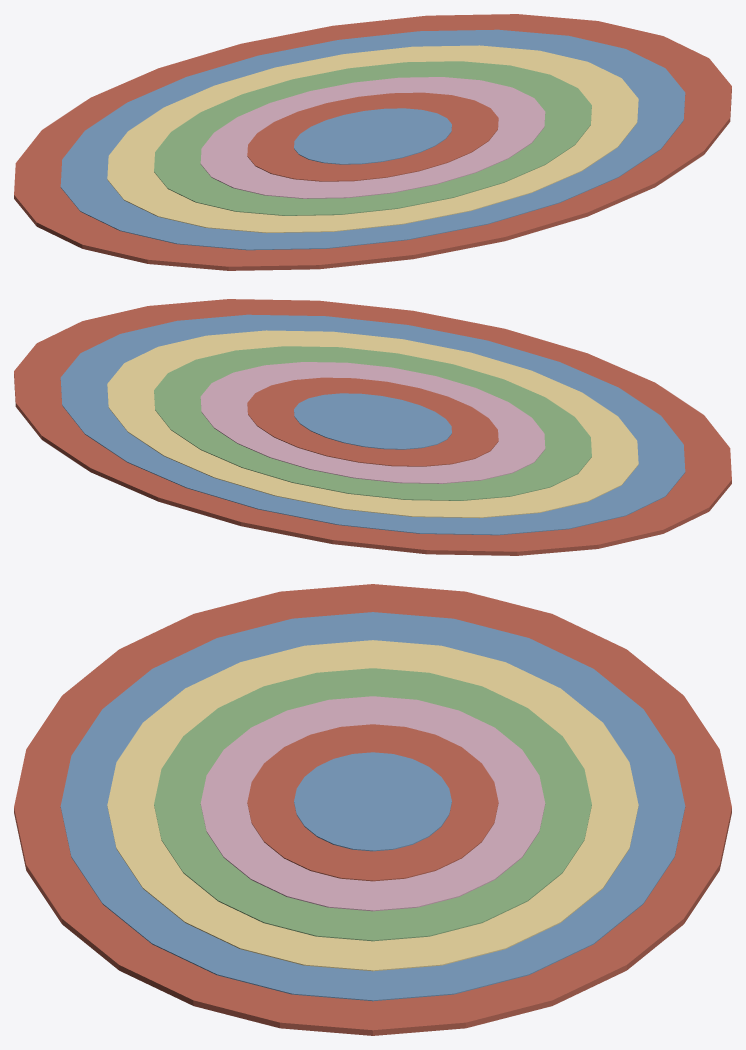
File: floor_rug_oval.glb
3 views of the same model, one above another, from view 1: azimuth 30°, elevation 25°; view 2: azimuth 150°, elevation 25°; view 3: azimuth 270°, elevation 25° (orthographic). The views are drawn at different scales.
Visible parts, largest first — view 1: floor_rug_oval; view 2: floor_rug_oval; view 3: floor_rug_oval.
Part boxes in pixels (x1,y1,x2,y2): floor_rug_oval: (14, 14, 731, 270); floor_rug_oval: (14, 299, 731, 555); floor_rug_oval: (14, 584, 731, 1035).
Size of the model in its own units: 2 by 0.024 by 1.36.
